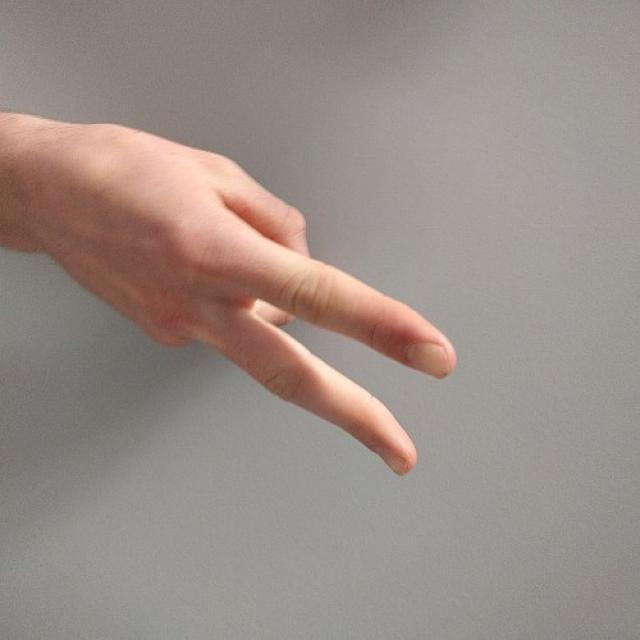scissors: (56, 121, 460, 478)
